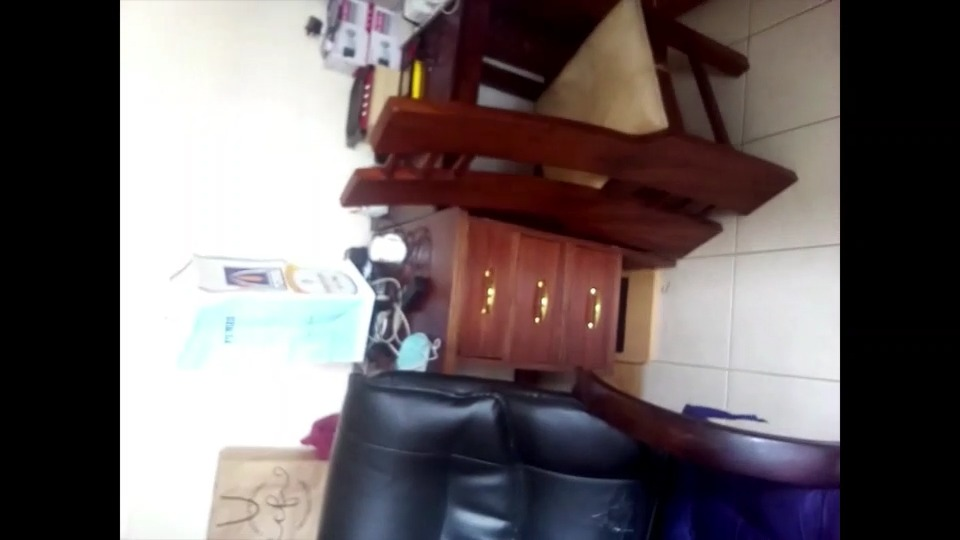wheat_flour_blue_label: (179, 258, 374, 363)
